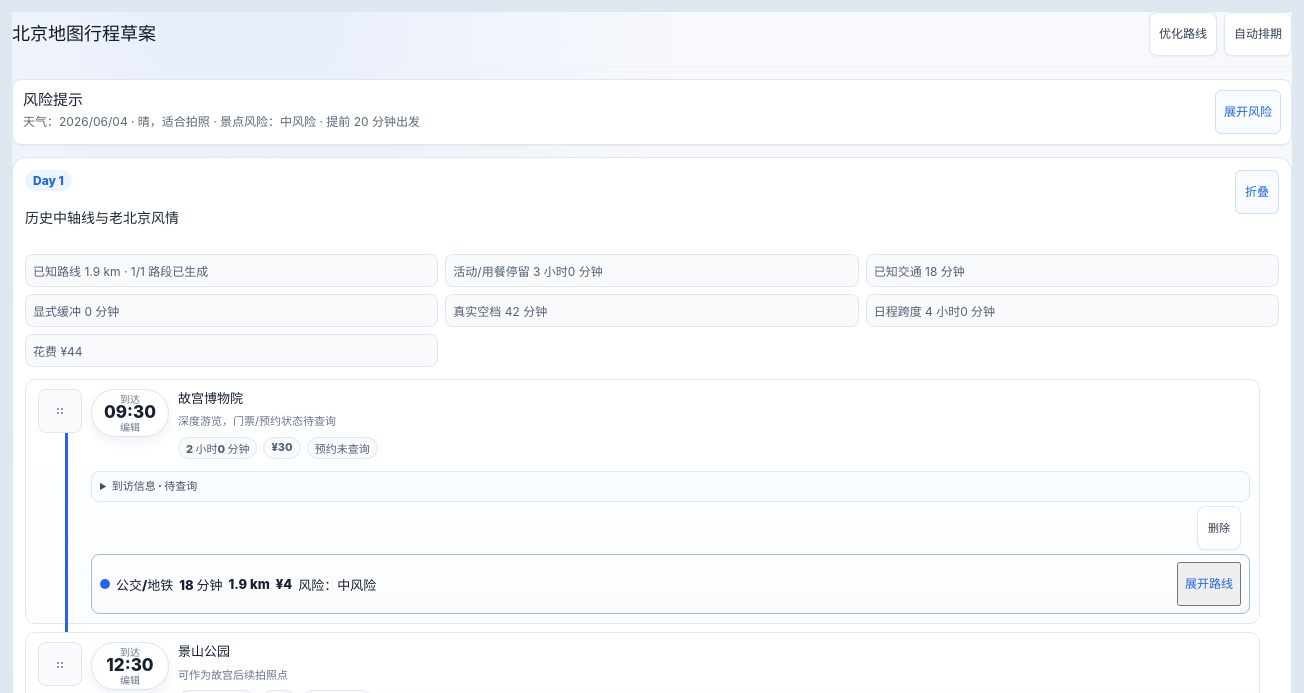
Test case: cancels trip title editing without saving
Click the button "北京地图行程草案" at [84, 34], box x1=12 y1=12 x2=156 y2=56
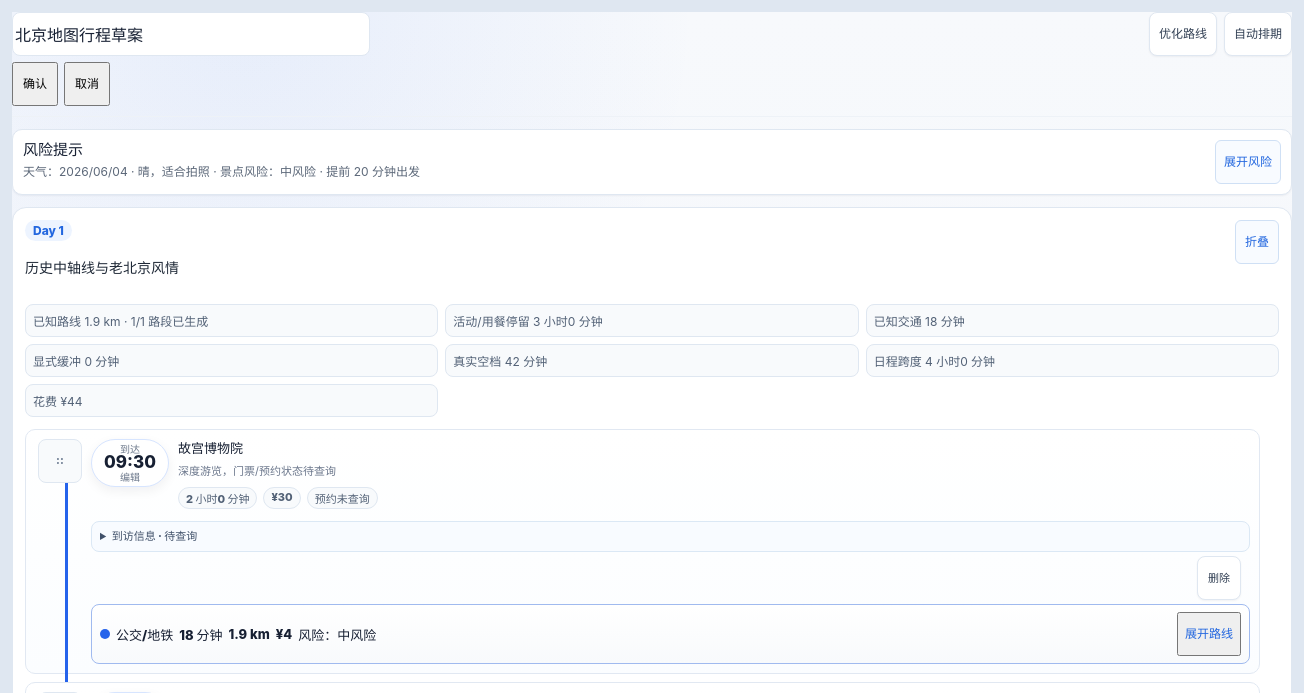
Replace the text in the field named "旅行标题输入" with "不会保存的标题" at [191, 34], box x1=12 y1=12 x2=370 y2=56
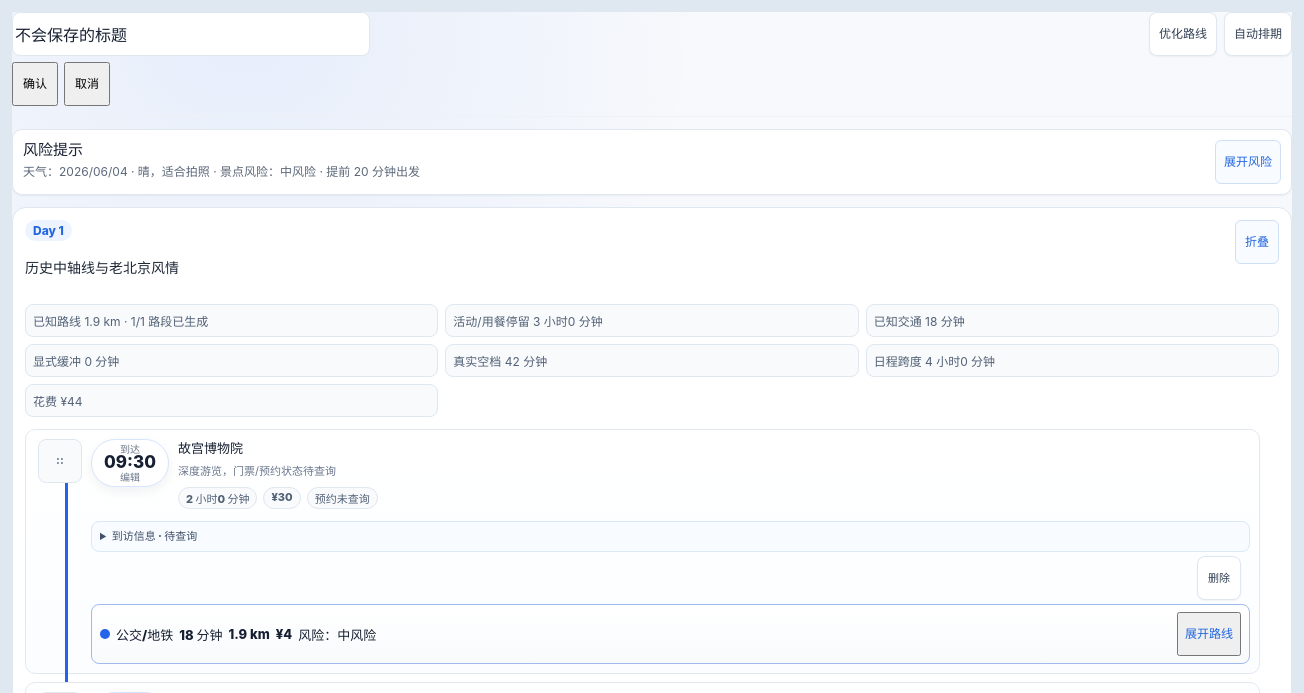
Click the button "取消" at [87, 84], box x1=64 y1=62 x2=110 y2=106
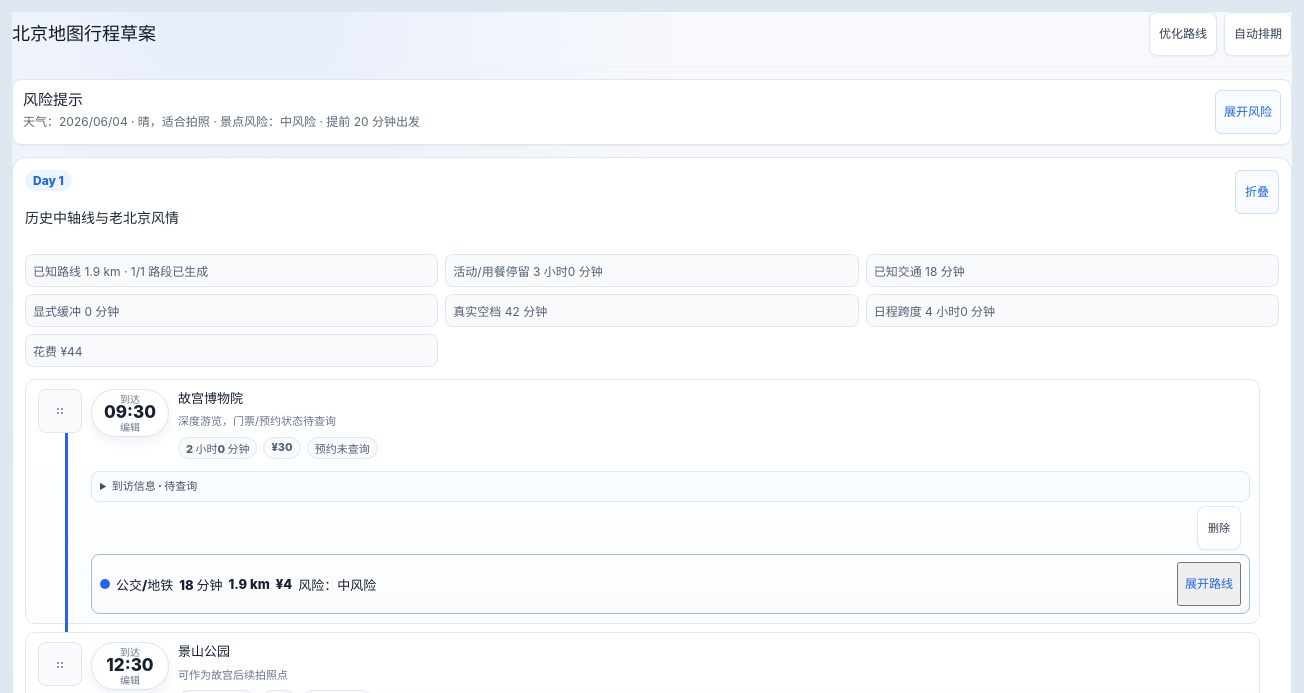
Expected: the text "不会保存的标题" is not shown
Expected: the button "北京地图行程草案" is shown, x1=12 y1=12 x2=156 y2=56
